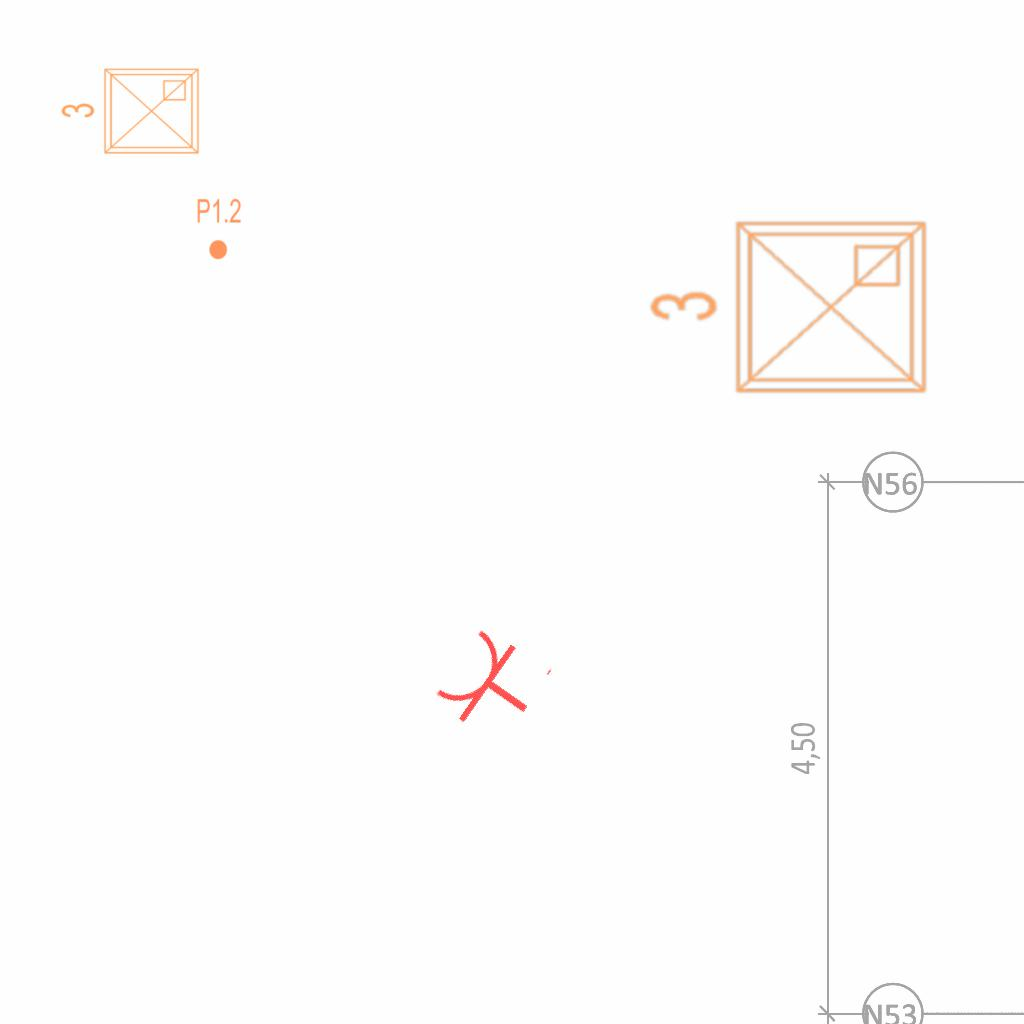Downlight_LED_Einbauleuchten_Flur: (196, 197, 242, 261)
Einbaudownlights_LED_Konferenzraeume: (640, 207, 940, 415), (56, 61, 206, 165)
Schukosteckdose_einfach: (428, 618, 557, 750)
